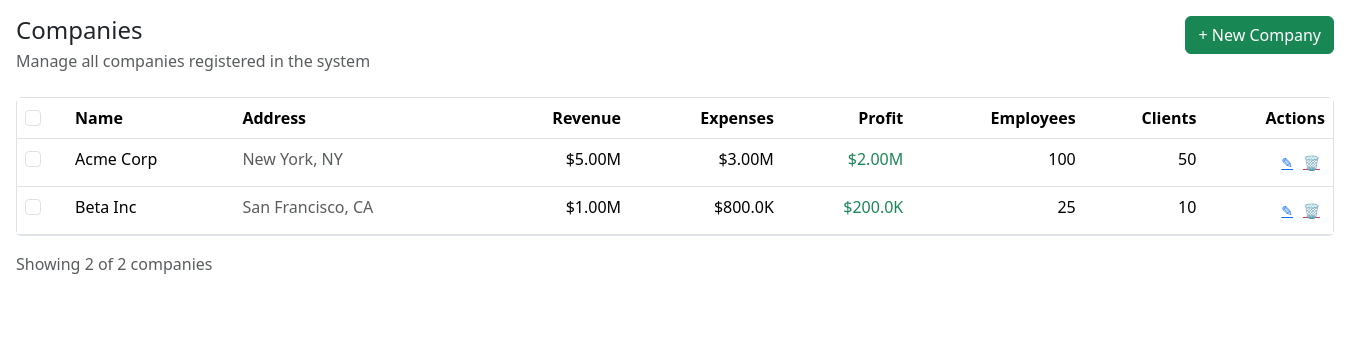
Scenario: CompanyListPage › select all checkbox toggles all rows
The image size is (1351, 338).
Click the checkbox with test id "select-all-checkbox" at (33, 118), box [25,110,41,126]
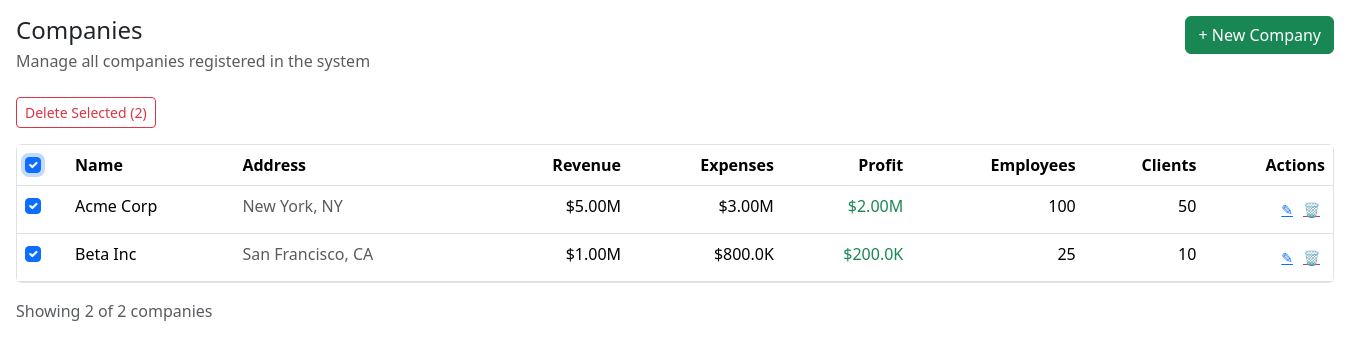
Now the button "Delete Selected (2)" is shown, box [16,97,156,128]
